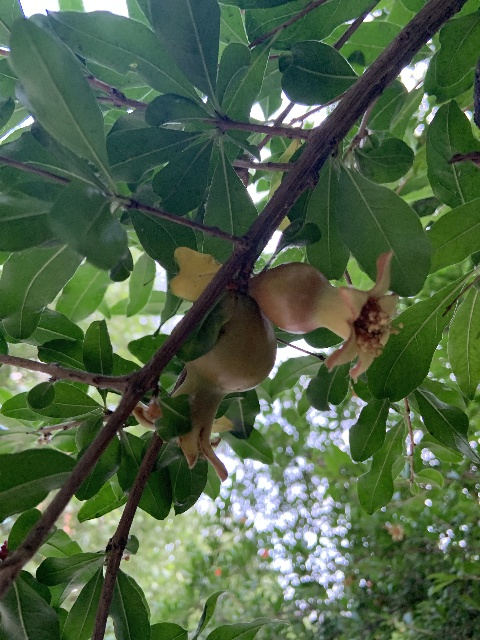early-fruit: (249, 252, 399, 381), (382, 522, 404, 541)
mid-growth: (146, 293, 277, 482)
